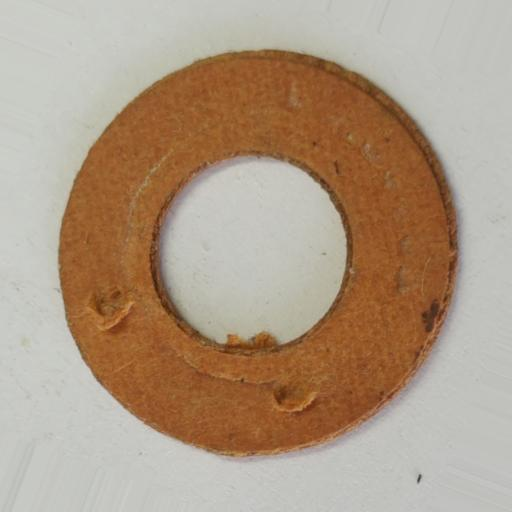defect: (88, 288, 136, 331), (273, 381, 315, 412)
